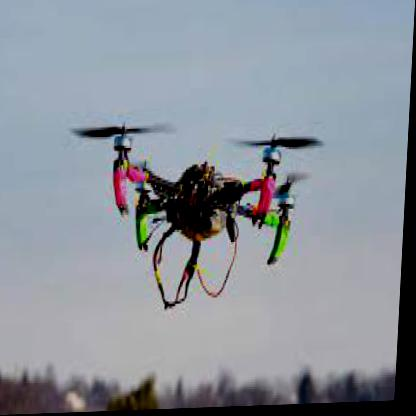UAS: (66, 118, 327, 312)
